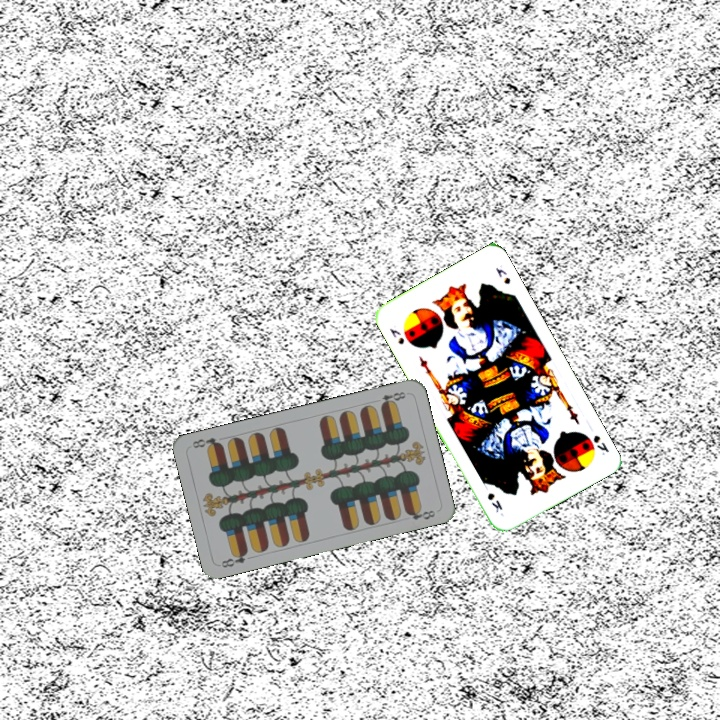E8: (217, 546, 250, 570), (377, 388, 410, 409)
SK: (589, 431, 612, 458), (386, 324, 407, 347)
